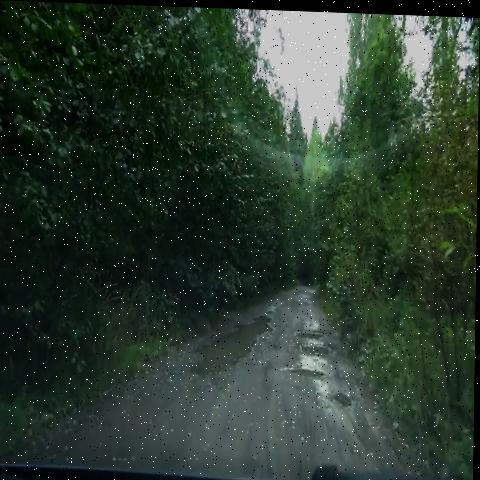pothole: (184, 288, 283, 391), (280, 358, 327, 389), (291, 320, 329, 346), (298, 335, 335, 361), (327, 381, 357, 413)
